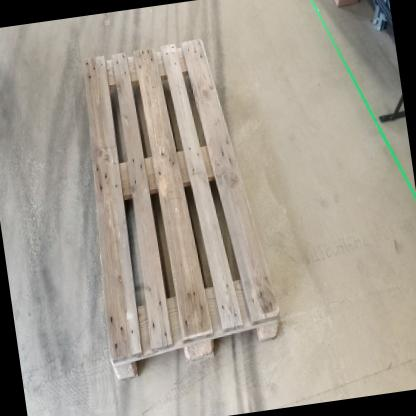BoxFace: (76, 31, 287, 393)
